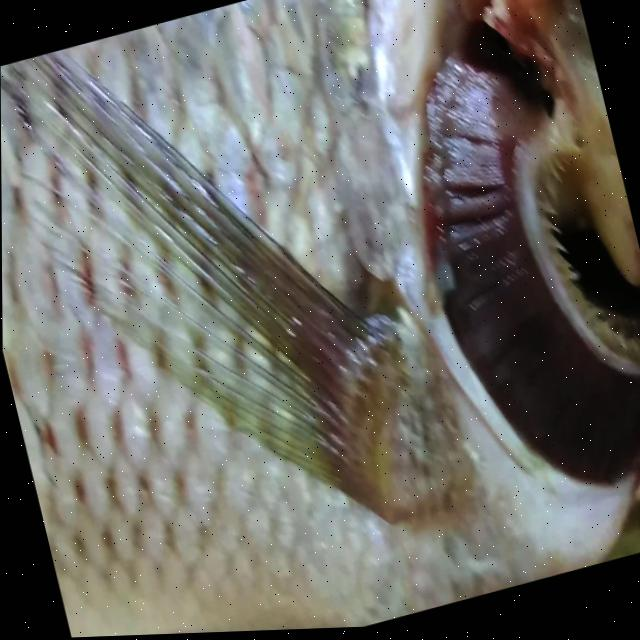Non-Fresh: (361, 9, 640, 526)
